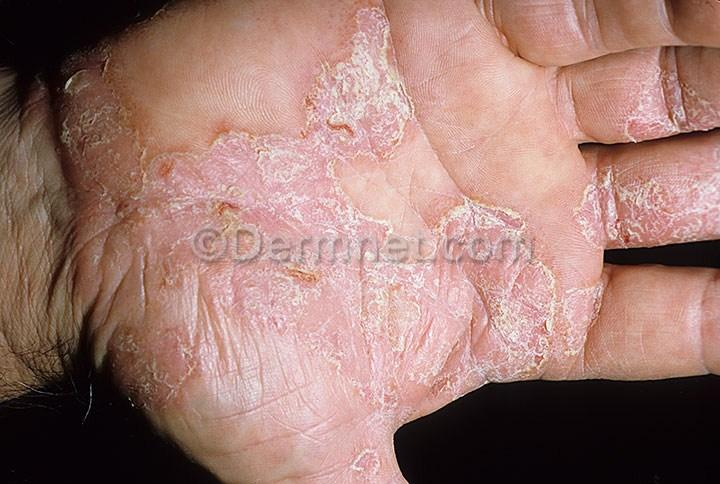Eczema: (297, 6, 419, 158), (373, 262, 469, 397), (388, 203, 537, 288), (68, 98, 166, 223), (234, 121, 353, 216), (159, 142, 253, 248), (468, 268, 558, 375), (308, 252, 386, 373), (167, 248, 240, 361), (91, 219, 174, 317), (236, 243, 305, 357), (105, 321, 205, 399), (325, 169, 408, 261), (237, 357, 328, 440), (561, 170, 650, 248), (189, 351, 256, 441), (555, 277, 609, 387), (320, 373, 431, 422), (324, 185, 396, 256), (330, 423, 395, 484), (522, 0, 597, 51), (613, 90, 680, 140), (50, 47, 116, 96), (653, 183, 704, 243), (668, 76, 718, 126), (632, 151, 707, 183), (628, 57, 674, 97), (699, 167, 719, 235)
